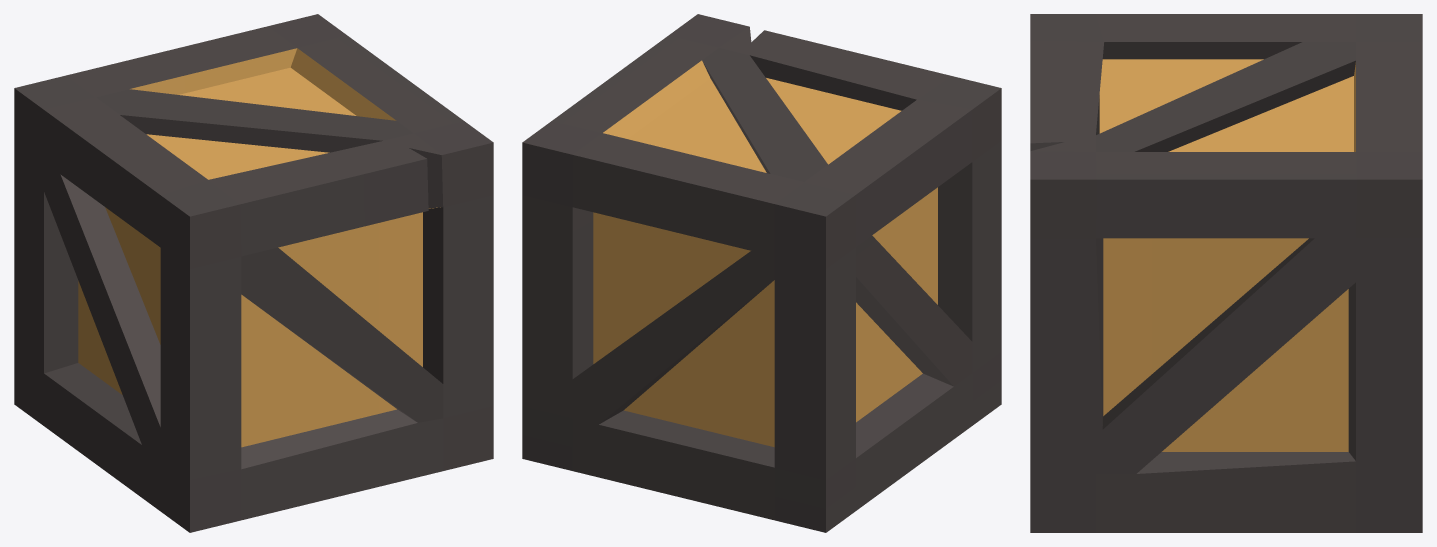
File: Wooden box .001.fbx
The picture shows the model from 3 angles, left to right: view 1: azimuth 30°, elevation 25°; view 2: azimuth 150°, elevation 25°; view 3: azimuth 270°, elevation 25°; orthographic projection. The views are drawn at different scales.
Visible parts, largest first — view 1: Wooden box .001; view 2: Wooden box .001; view 3: Wooden box .001.
Part boxes in pixels (x1,y1,x2,y2): Wooden box .001: [14, 14, 493, 532]; Wooden box .001: [522, 14, 1001, 532]; Wooden box .001: [1030, 14, 1422, 532].
Bounding box in the file's own units: 78.01 × 77.62 × 78.1.
